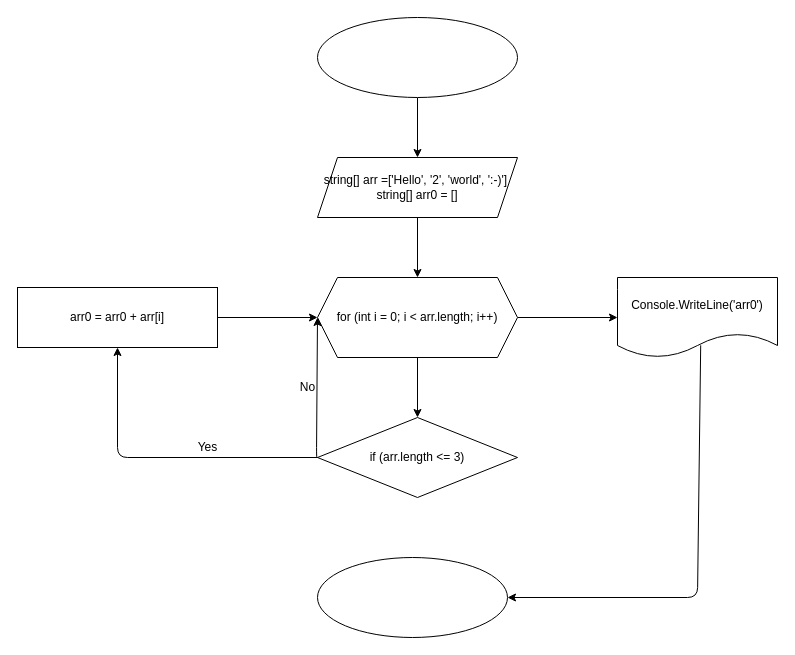
This 795x655 diagram has some shape labels left out. The shapes that lost their labels are listed below. From the top down, each one's centre as x and y in pixels, then its label:
[417,57]: start
[412,597]: end
